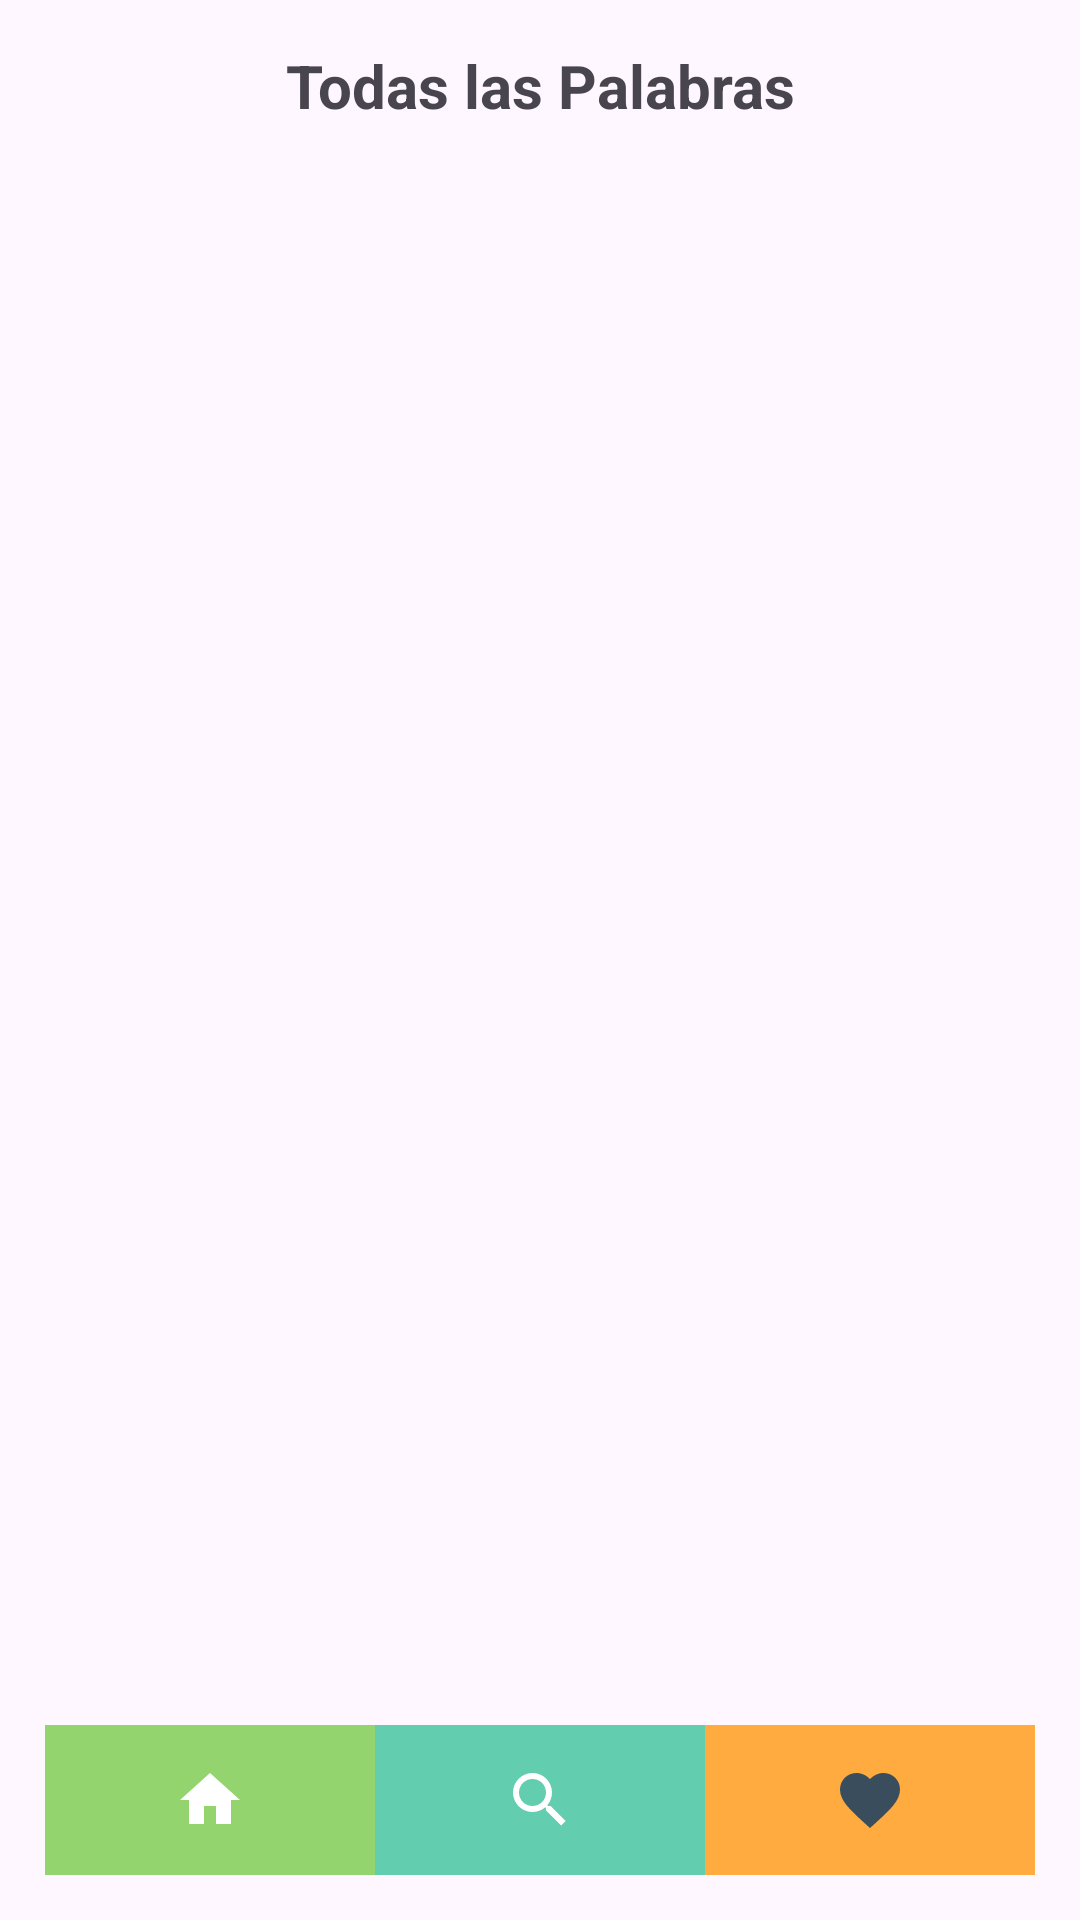

Locate icon controls on the screen. Image size 1080 x 1920, boxes as box(x1, y1, x2, y2).
Boton Buscar: box(375, 1725, 705, 1875)
Boton Favoritos: box(705, 1725, 1035, 1875)
Boton Home: box(45, 1725, 375, 1875)
